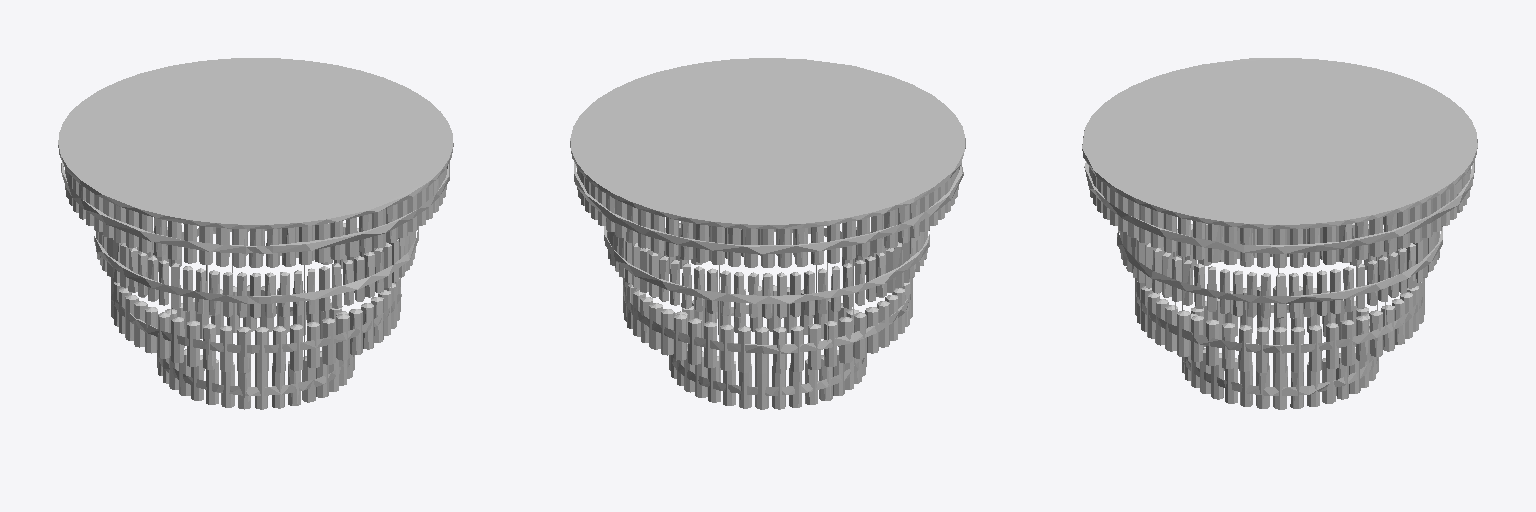
3 views of the same model, side by side, from view 1: azimuth 30°, elevation 25°; view 2: azimuth 150°, elevation 25°; view 3: azimuth 270°, elevation 25° (orthographic).
Parts seen in each view (by area): view 1: solid_001, glass_001; view 2: solid_001, glass_001; view 3: solid_001, glass_001.
Part boxes in pixels (x1,y1,x2,y2): solid_001: (58,58,453,395); glass_001: (65,168,446,409); solid_001: (570,58,965,395); glass_001: (577,168,958,409); solid_001: (1082,58,1477,395); glass_001: (1089,167,1470,409).
Size of the model in its own units: 0.6867 by 0.4391 by 0.6873.